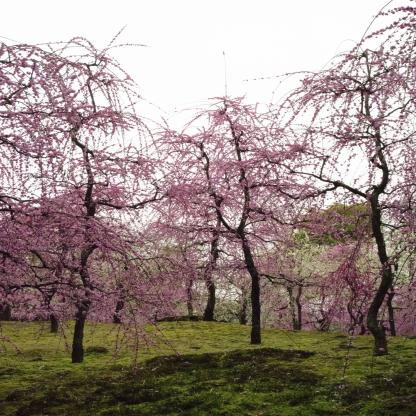Ume: (0, 23, 175, 371), (261, 2, 416, 339), (136, 50, 292, 336)
